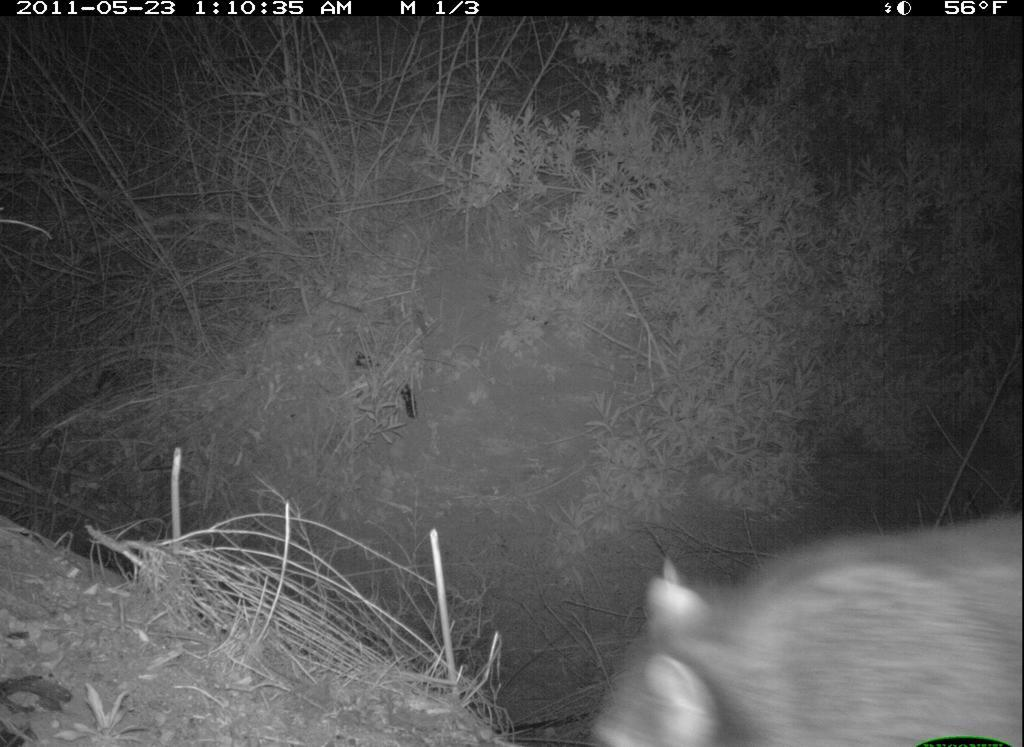raccoon: (580, 495, 1024, 740)
